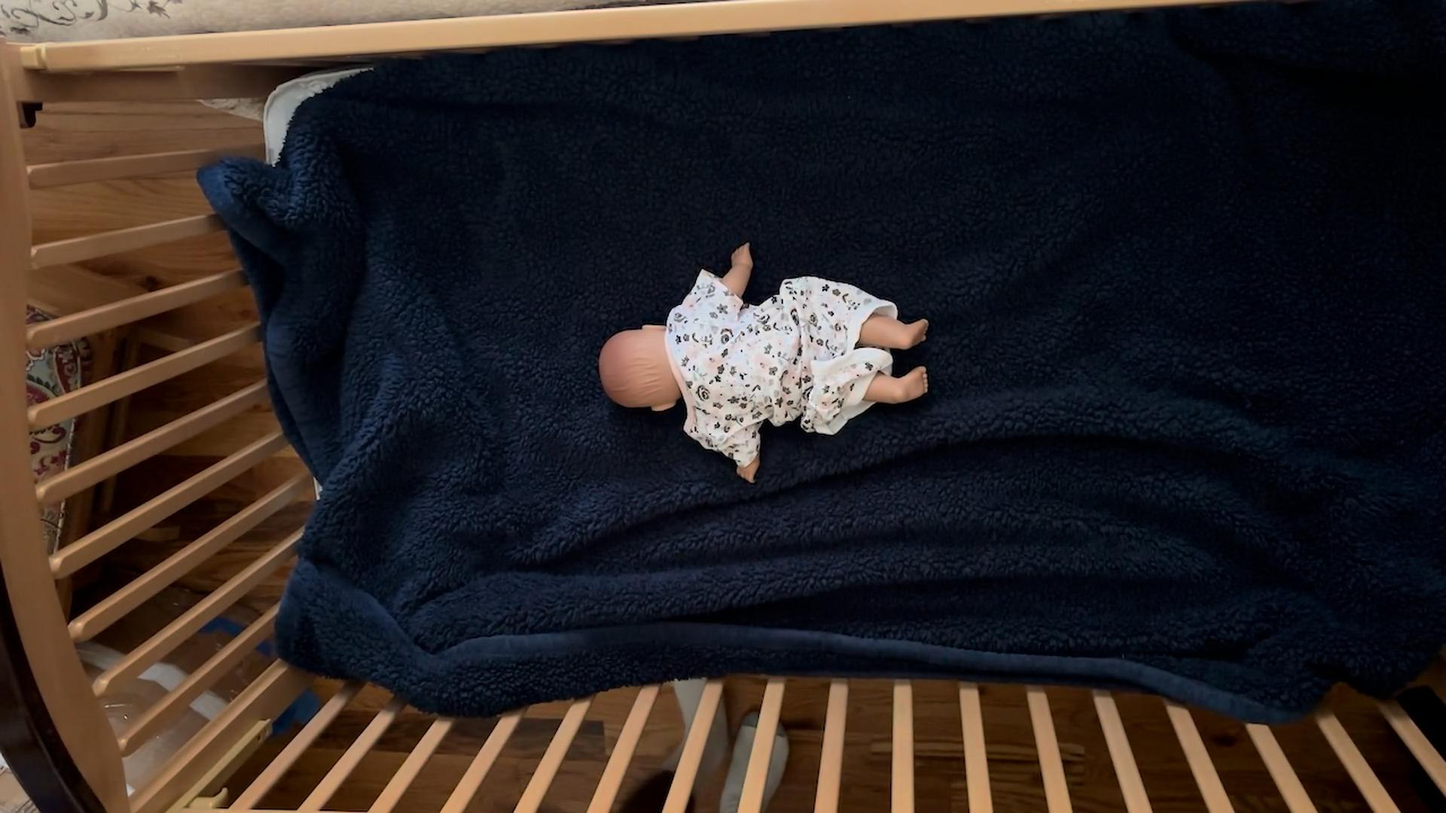baby: (594, 241, 938, 485)
